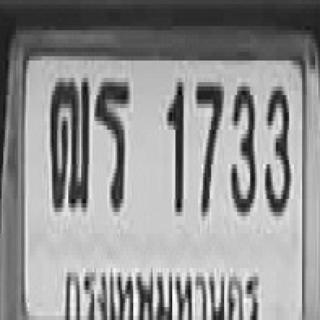A18: (49, 74, 88, 208)
A35: (94, 78, 128, 208)
N01: (166, 78, 182, 208)
N03: (263, 82, 289, 212), (229, 82, 255, 212)
N07: (195, 78, 221, 212)
P04: (64, 250, 264, 320)
